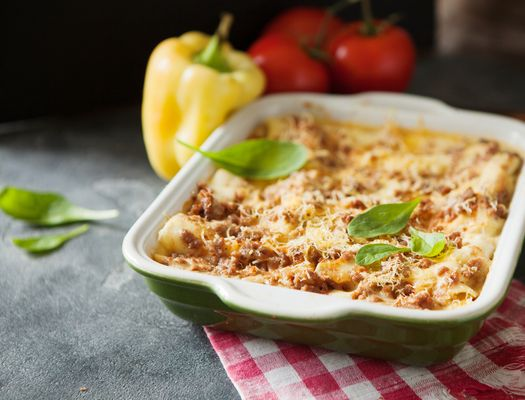steak: (247, 4, 418, 95)
sushi: (122, 86, 525, 380)
